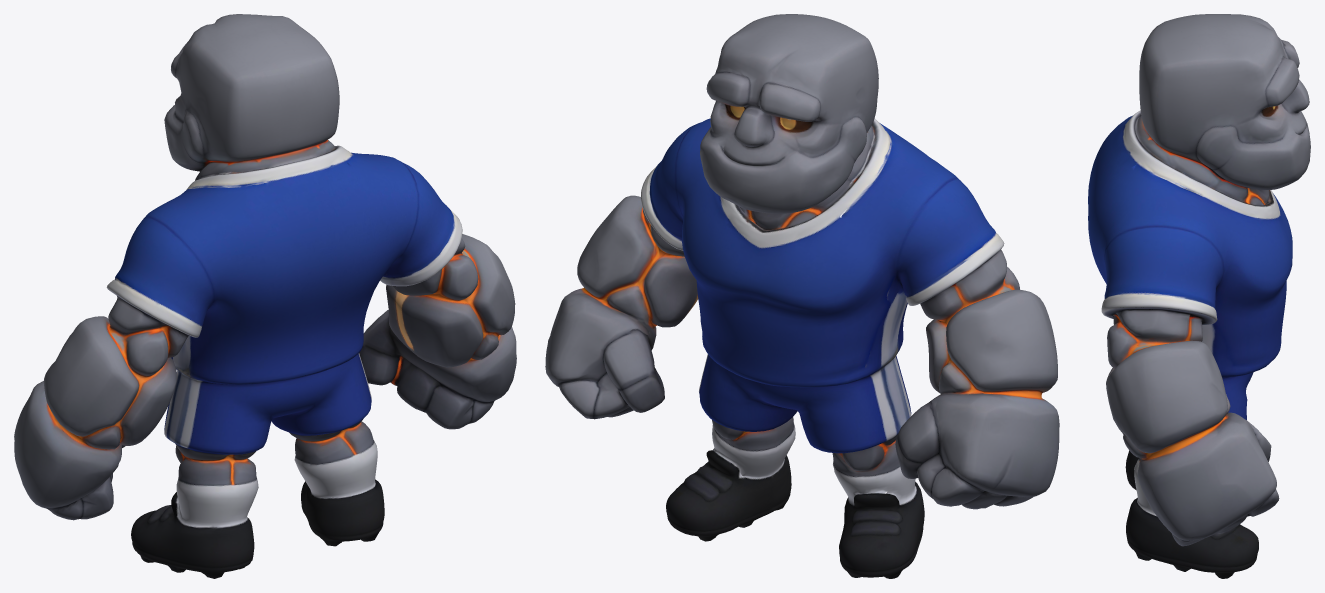
File: muralla.glb
The picture shows the model from 3 angles, left to right: view 1: azimuth 30°, elevation 25°; view 2: azimuth 150°, elevation 25°; view 3: azimuth 270°, elevation 25°; orthographic projection. The views are drawn at different scales.
Visible parts, largest first — view 1: char; view 2: char; view 3: char.
Part boxes in pixels (bbox=[...]): char: bbox=[14, 14, 516, 578]; char: bbox=[545, 14, 1059, 578]; char: bbox=[1088, 14, 1310, 578].
Size of the model in its own units: 1.67 by 1.7 by 0.6816.
1 material, 1 textured.
